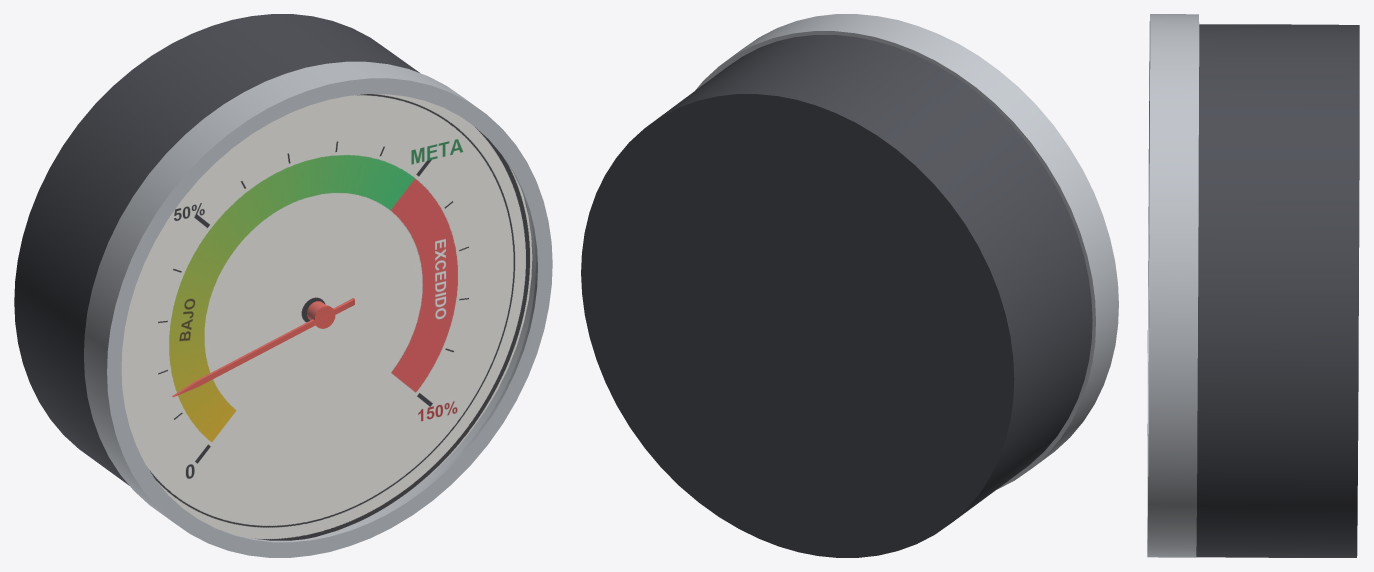
The model's file is gauge_meter_001_meshopt.glb.
3 renders of one model, left to right at view 1: azimuth 30°, elevation 25°; view 2: azimuth 150°, elevation 25°; view 3: azimuth 270°, elevation 25°, orthographic. The views are drawn at different scales.
Parts seen in each view (by area): view 1: cristal, dial, soporte, marco, aguja; view 2: soporte, marco; view 3: soporte, marco.
Boxes of the visible parts, x1,y1,x2,y2 form: cristal: (122, 94, 535, 539); dial: (121, 94, 532, 540); soporte: (14, 14, 530, 485); marco: (84, 61, 552, 557); aguja: (172, 298, 354, 397); soporte: (581, 35, 1092, 557); marco: (695, 14, 1118, 489); soporte: (1196, 24, 1359, 557); marco: (1147, 14, 1199, 557).
Bounding box in the file's own units: 2.04 × 2.04 × 0.7969.
5 materials, 1 textured.
